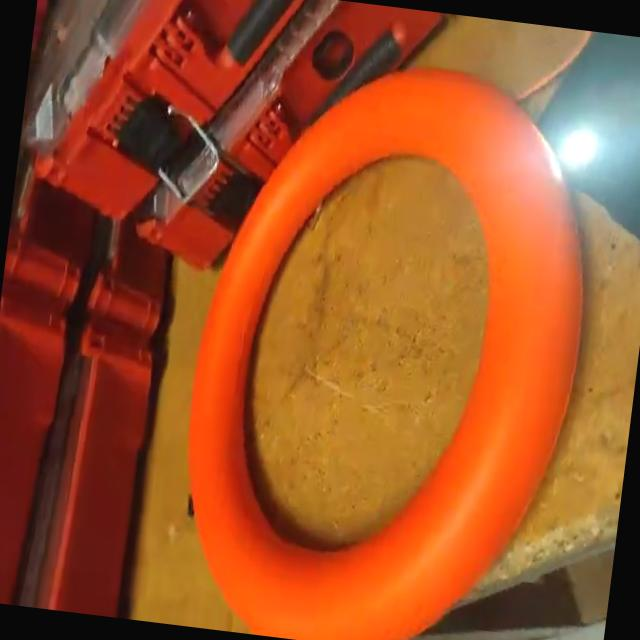note: (159, 31, 617, 640)
